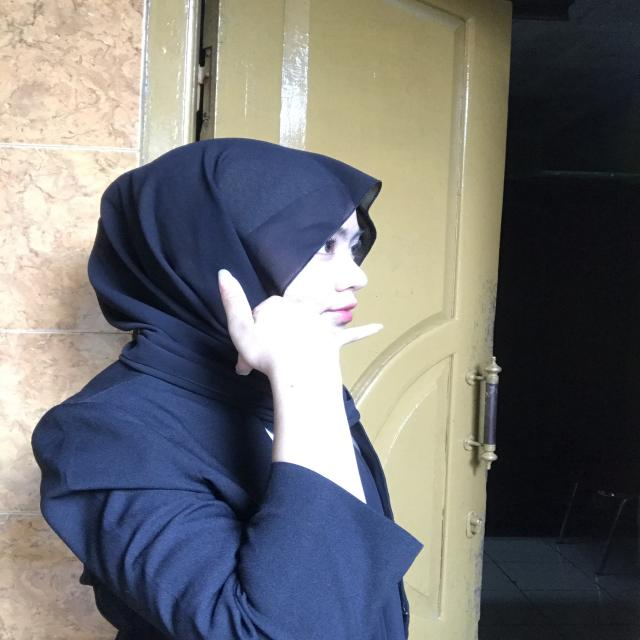telpon: (190, 257, 406, 381)
